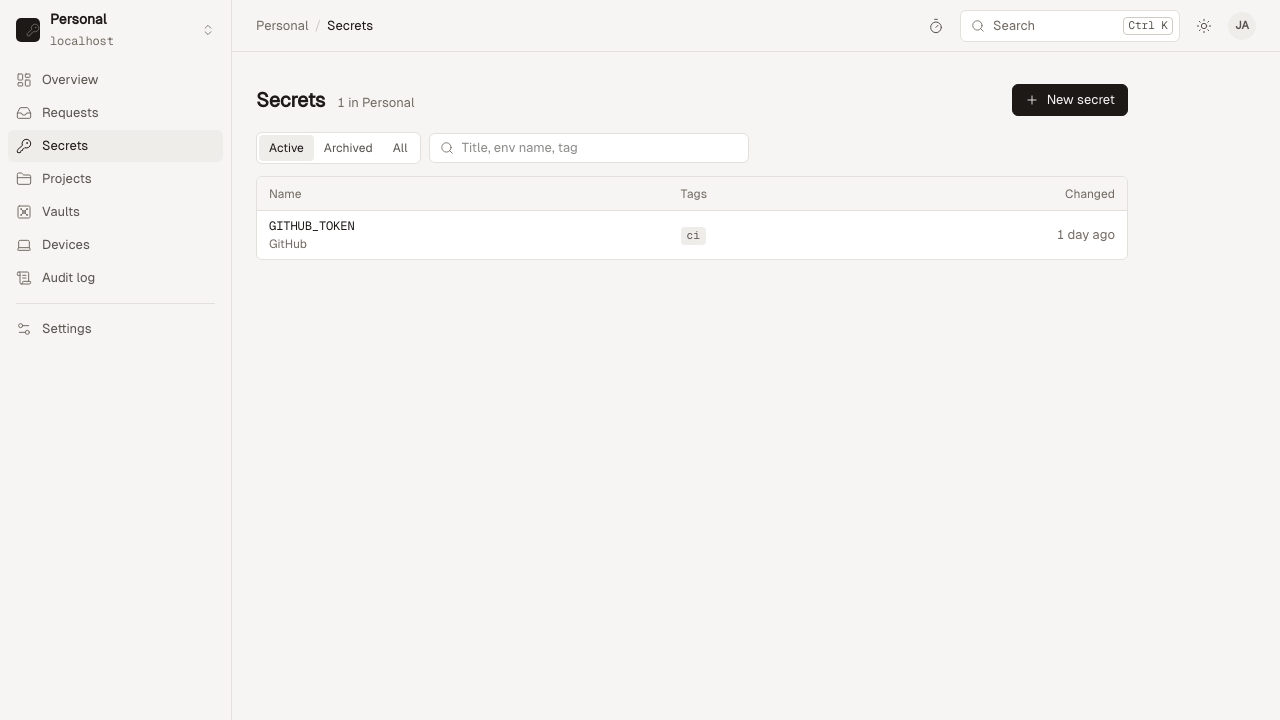
it: secrets page › filter "Archived" shows only archived secrets with their reason
This screenshot has width=1280, height=720.
Check: the text "GITHUB_TOKEN" is shown, box [269, 217, 354, 235]
What coordinates should you click on to do the following:
click the button "Archived"
I would click on:
 (348, 148)
Its box is [314, 135, 383, 161].
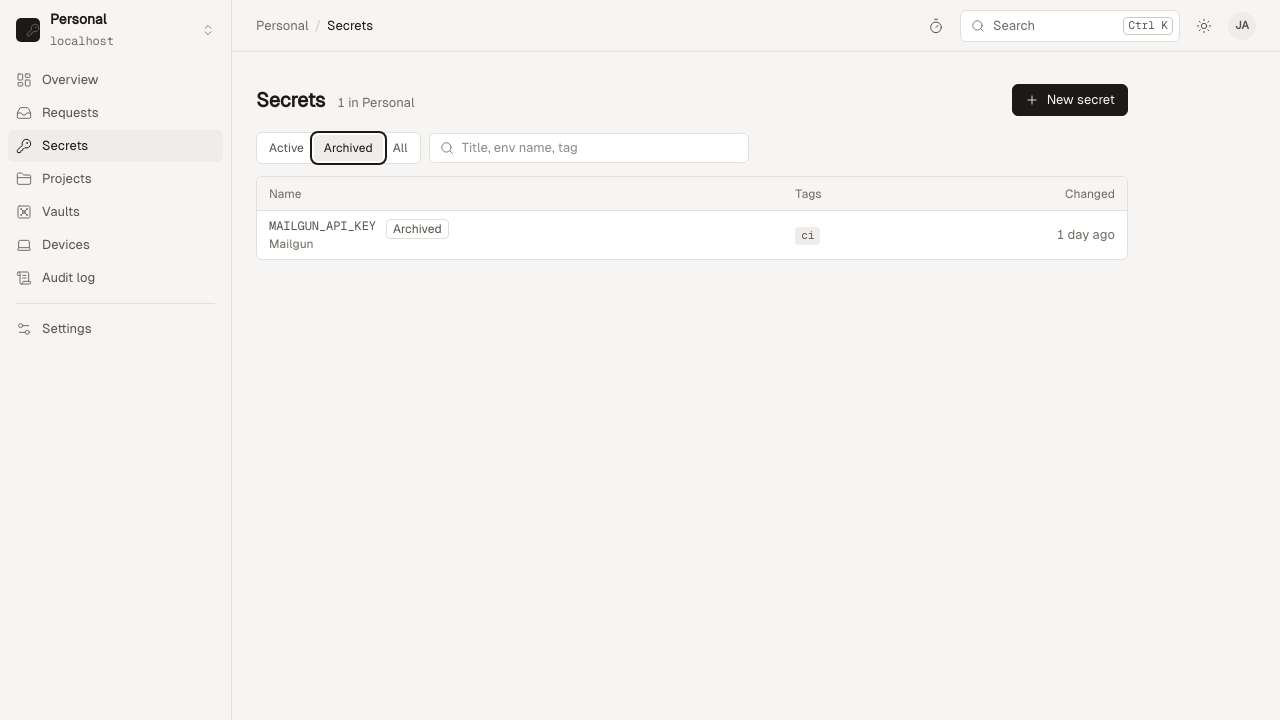
Check: the text "MAILGUN_API_KEY" is shown, box [269, 217, 376, 235]
Check: the button "GITHUB_TOKEN" is gone
